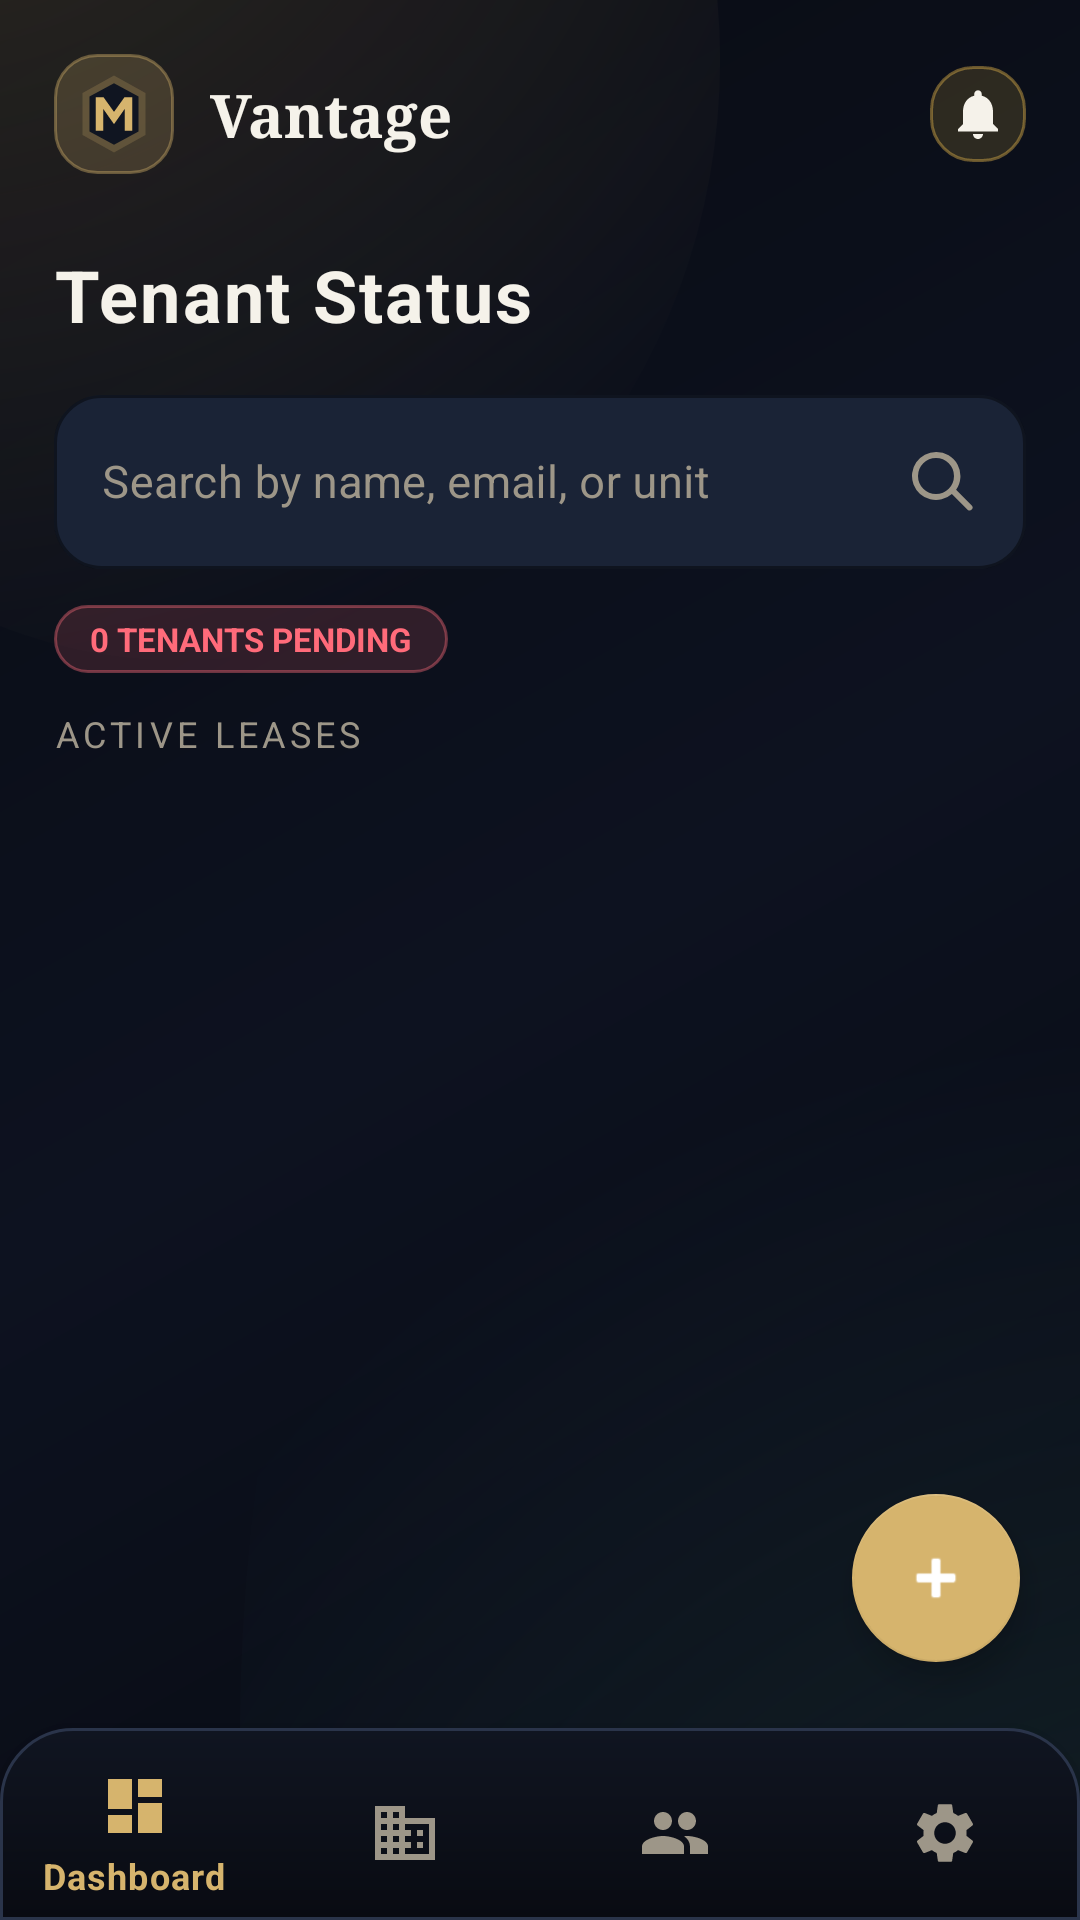

Where icons sit on this 1080x1920 app screen, as (x1, y1, x2, y2):
Notifications: (930, 66, 1026, 162)
